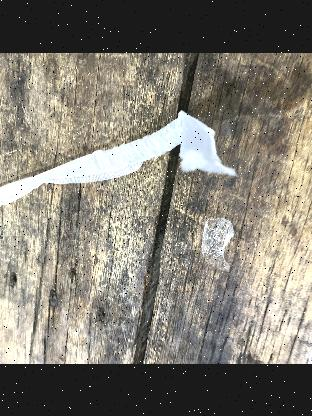Others: (0, 111, 234, 234), (196, 214, 242, 271)
